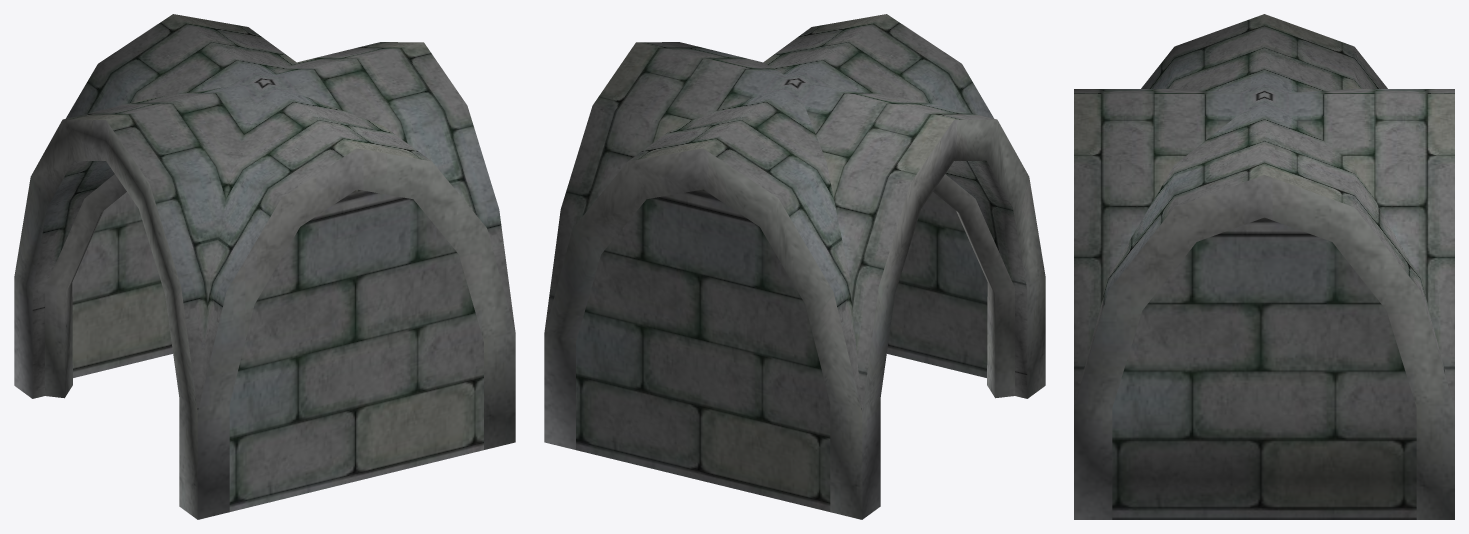
Rendered from vault_ceiling_small_05.glb.
3 views of the same model, side by side, from view 1: azimuth 30°, elevation 25°; view 2: azimuth 150°, elevation 25°; view 3: azimuth 270°, elevation 25° (orthographic). The views are drawn at different scales.
Parts seen in each view (by area): view 1: vault_ceiling_small_05; view 2: vault_ceiling_small_05; view 3: vault_ceiling_small_05.
Part boxes in pixels (x1,y1,x2,y2): vault_ceiling_small_05: (14,14,515,519); vault_ceiling_small_05: (544,14,1045,519); vault_ceiling_small_05: (1074,14,1454,519).
Bounding box in the file's own units: 2 × 2 × 2.
Materials: 1 (1 with a texture image).
